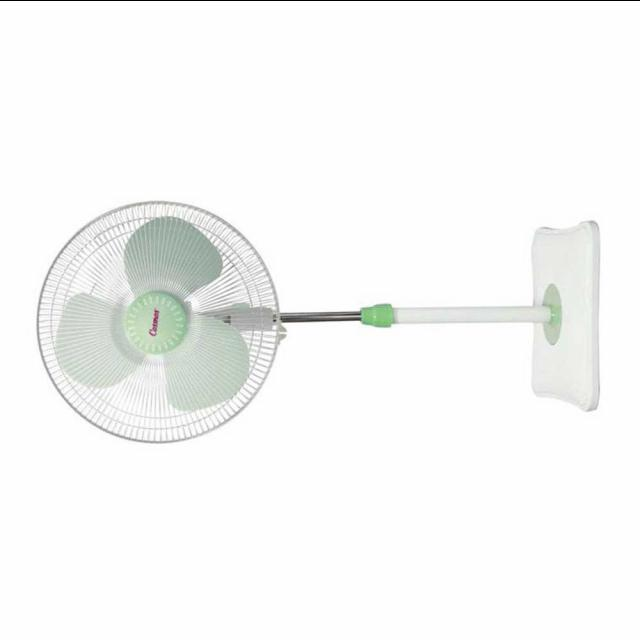fan: (37, 195, 607, 443)
